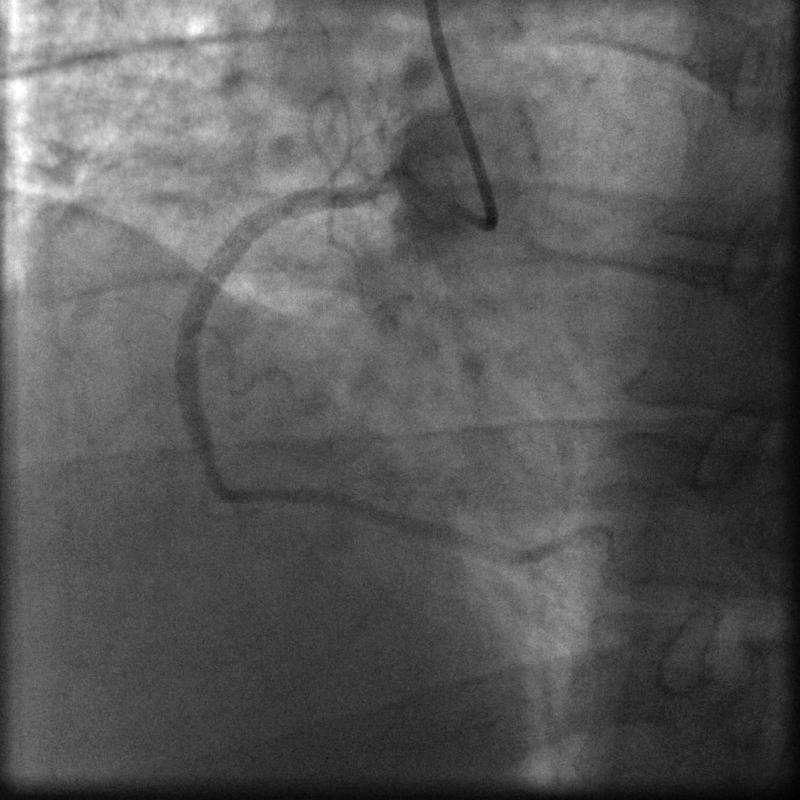Stenosis: (191, 431, 233, 502)
